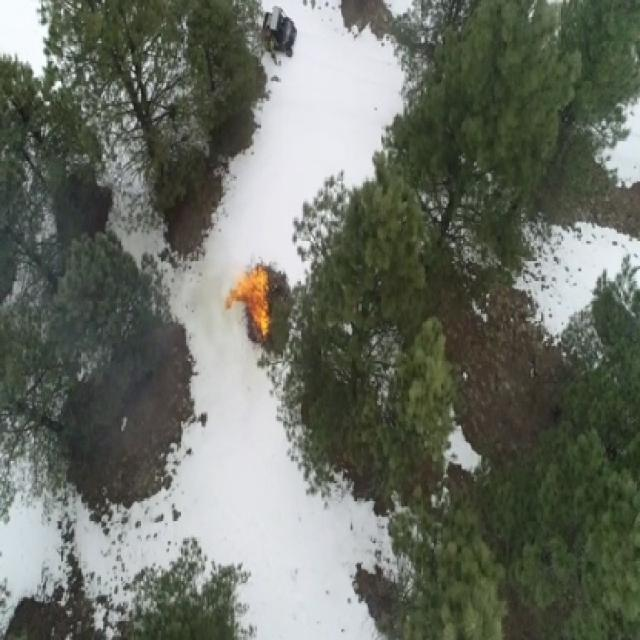Fire: (223, 262, 271, 340)
